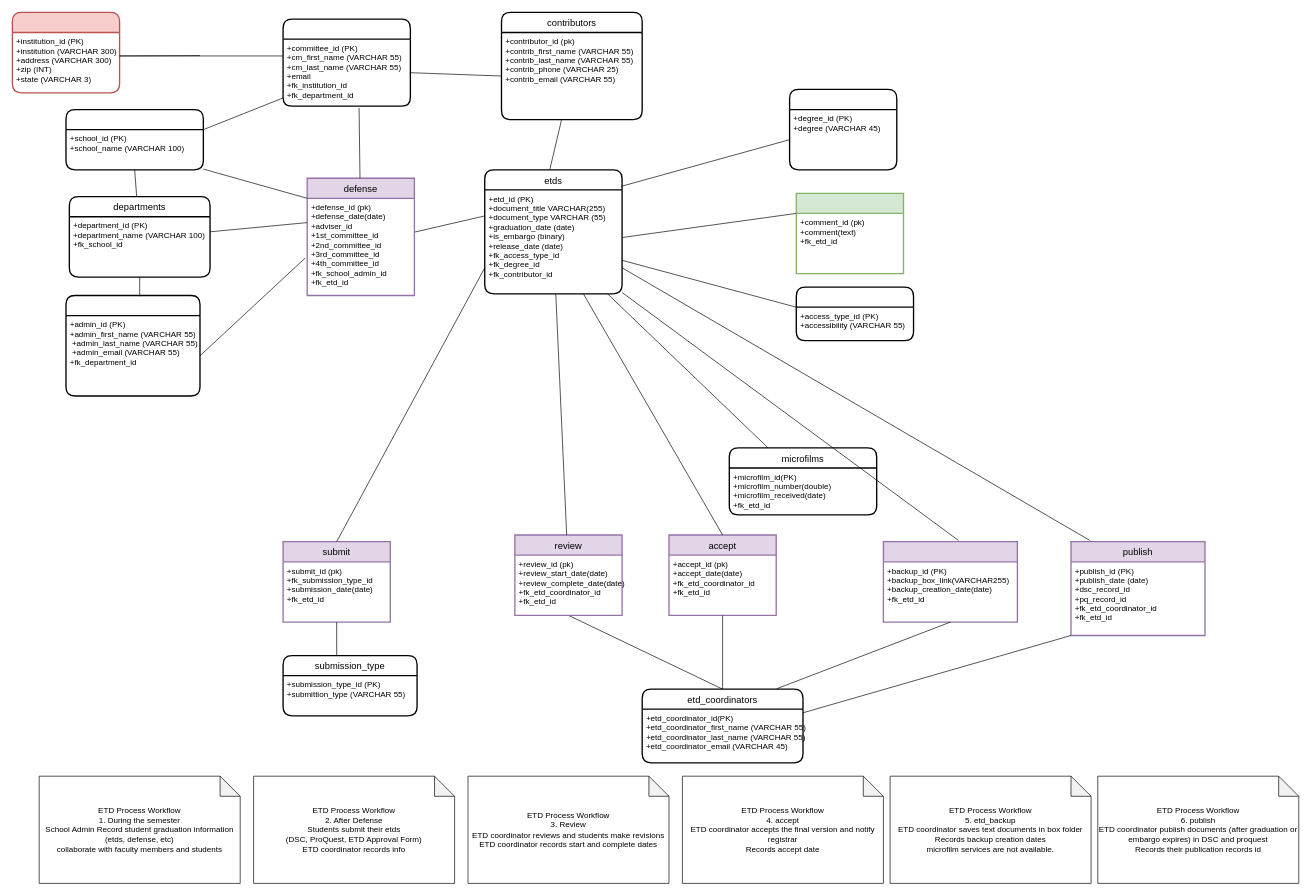
Image size: 1311x895. Some labels were removed from this diagram. Here are the shapes that lost their labels. From the top down, the box of each, then its label:
(11, 11, 120, 93): institutions
(282, 18, 411, 107): committees
(65, 109, 204, 170): schools
(789, 88, 897, 170): degrees
(795, 192, 904, 274): comments
(795, 286, 914, 341): access_types
(65, 294, 200, 396): administrators
(882, 541, 1018, 622): etd_backups
